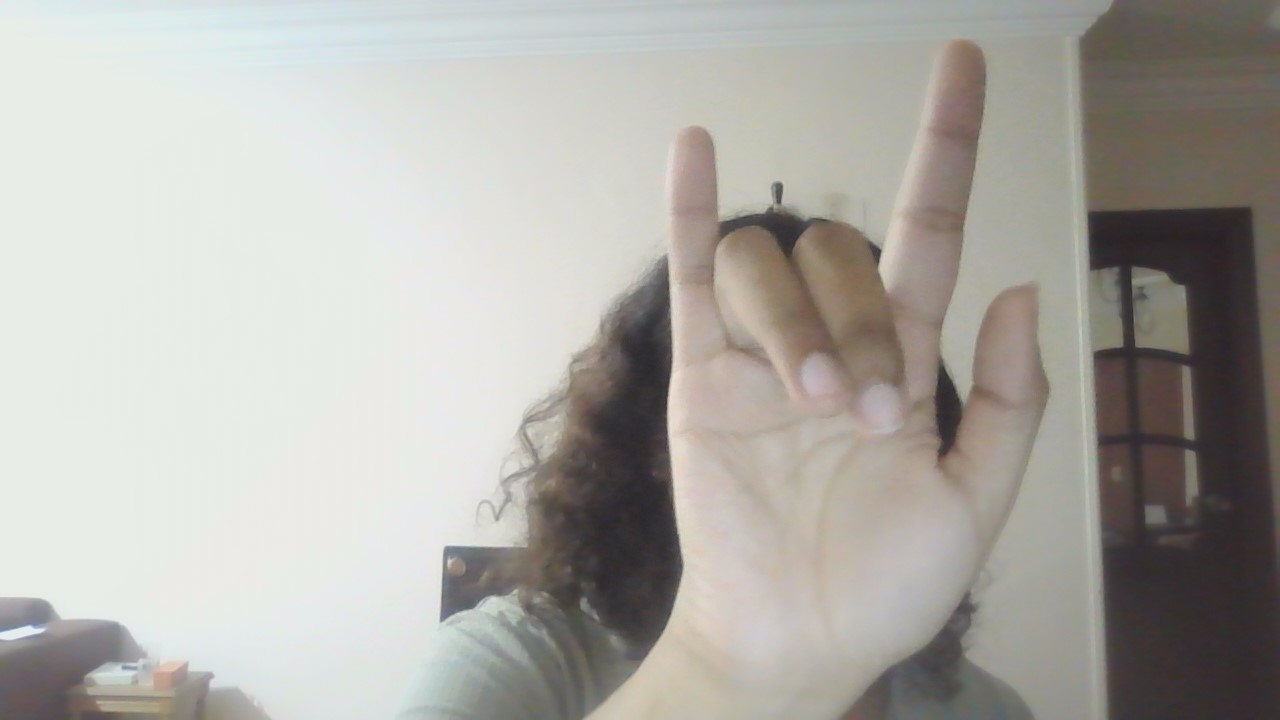love: (505, 28, 1147, 688)
